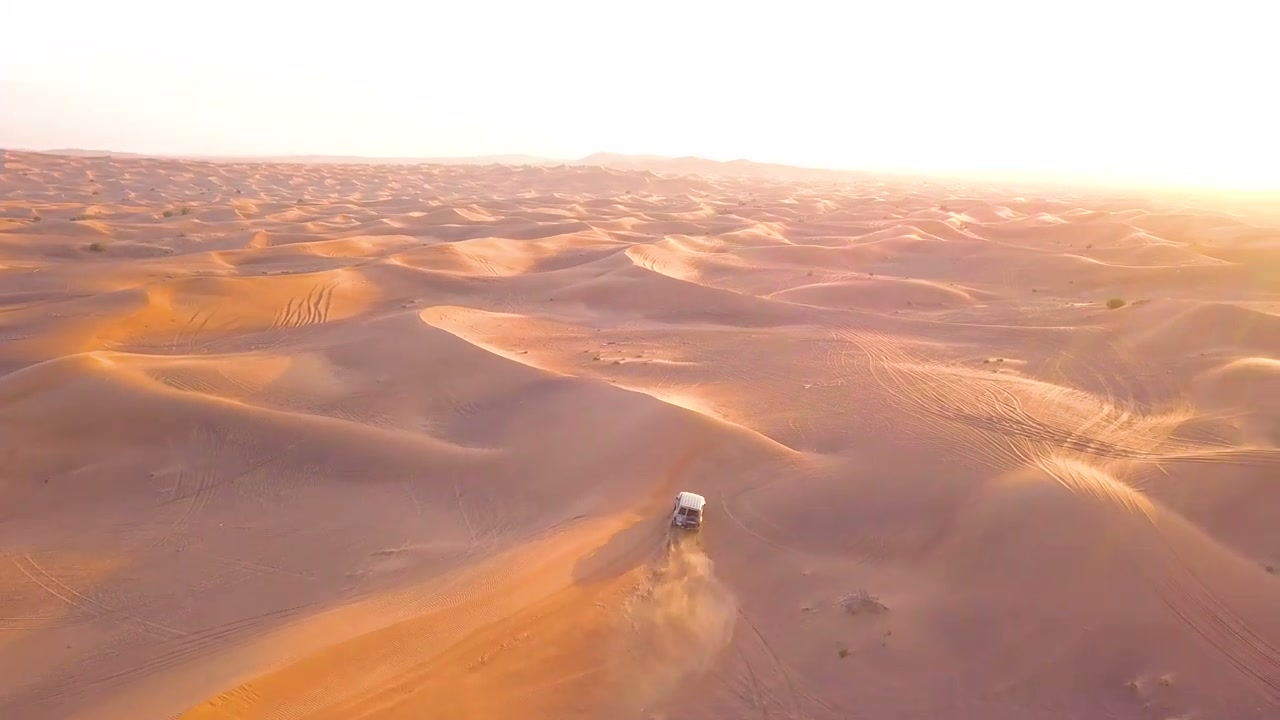vehicle_track: (841, 331, 1279, 513), (839, 331, 1211, 463), (969, 353, 1269, 461), (32, 605, 308, 701), (833, 331, 1014, 467), (1153, 524, 1279, 711), (848, 333, 1024, 465), (965, 383, 1253, 462), (150, 424, 305, 547), (949, 386, 1164, 459), (10, 554, 186, 638), (1162, 582, 1279, 707), (737, 608, 847, 719), (812, 331, 924, 436), (152, 423, 223, 546), (738, 608, 802, 719), (721, 486, 810, 560), (225, 435, 313, 499), (452, 471, 519, 554), (721, 499, 798, 553), (191, 548, 314, 579), (269, 280, 336, 330), (708, 361, 797, 396), (731, 647, 769, 719), (171, 308, 215, 352), (212, 358, 261, 397), (451, 471, 476, 544), (153, 370, 217, 395), (458, 251, 505, 276)
